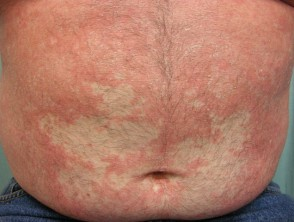Pityriasis Rubra Pilaris: (46, 90, 262, 210)
